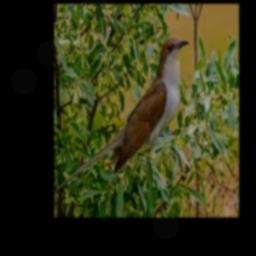Cuckoo: (59, 38, 189, 188)
